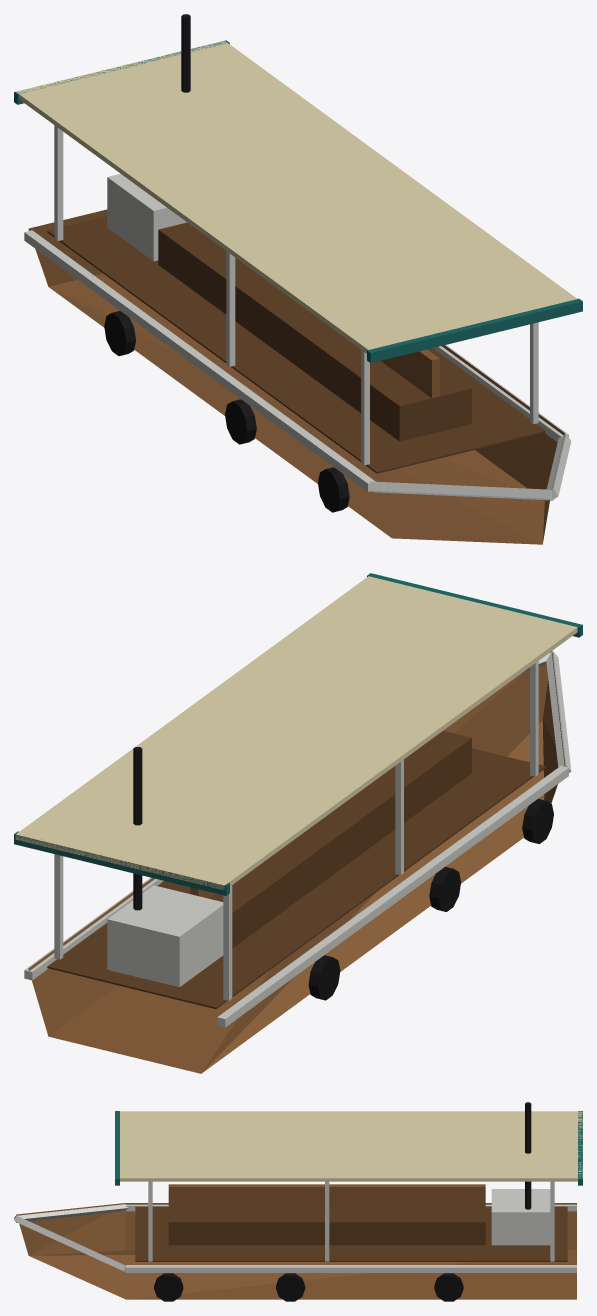
The model's file is veh_abra.9b13e9b59113.glb.
The picture shows the model from 3 angles, top to bottom: view 1: azimuth 30°, elevation 25°; view 2: azimuth 150°, elevation 25°; view 3: azimuth 270°, elevation 25°; orthographic projection. The views are drawn at different scales.
Parts seen in each view (by area): view 1: body, tyres; view 2: body, tyres; view 3: body, tyres.
Boxes of the visible parts, x1,y1,x2,y2 form: body: [14, 14, 582, 544]; tyres: [104, 311, 349, 512]; body: [14, 573, 582, 1073]; tyres: [308, 799, 553, 1000]; body: [14, 1102, 582, 1299]; tyres: [154, 1273, 463, 1301].
Bounding box in the file's own units: 2.66 × 3.25 × 9.34.
